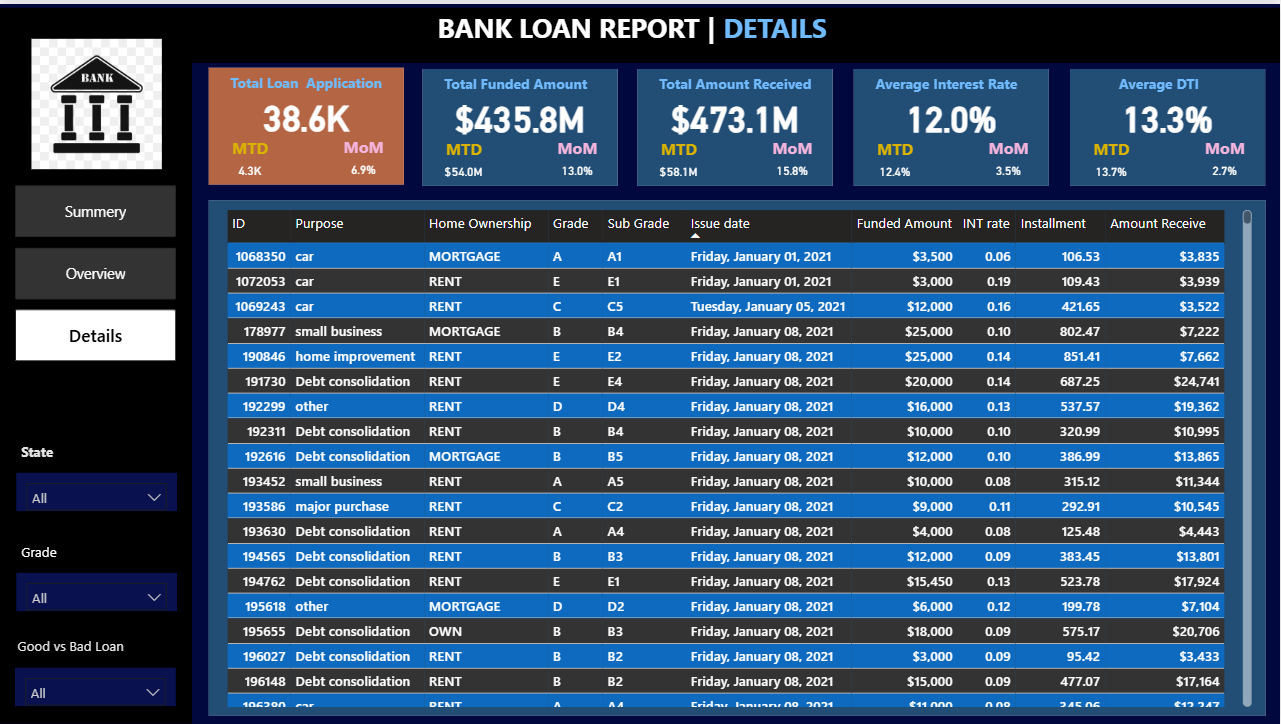

This screenshot's page, from the dashboard's own definition file:
{"tool":"powerbi","page":{"name":"Details","canvas":[1280,720],"ordinal":2},"visuals":[{"type":"shape","box":[208.2,63.1,195.1,117],"z":0,"group":"g1"},{"type":"shape","box":[422.8,64.4,195.1,117],"z":0,"group":"g2"},{"type":"shape","box":[637.6,64.4,195.1,117],"z":0,"group":"g3"},{"type":"shape","box":[853.5,64.4,195.1,117],"z":0,"group":"g4"},{"type":"shape","box":[1069.5,64.4,195.1,117],"z":0,"group":"g5"},{"type":"shape","box":[208.6,196.3,1056.4,515.3],"z":0},{"type":"textbox","box":[0,55.2,192,665],"z":1000},{"type":"card","fields":{"Values":["financial_loan.TOTAL LOAN APPLICATION"]},"box":[208.2,81.5,195.1,58.9],"z":1000,"group":"g1"},{"type":"card","fields":{"Values":["financial_loan.Total Funded Amount"]},"box":[422.8,82.8,195.1,58.9],"z":1000,"group":"g2"},{"type":"card","fields":{"Values":["financial_loan.Total Amount Receive"]},"box":[637.6,82.8,195.1,58.9],"z":1000,"group":"g3"},{"type":"card","fields":{"Values":["financial_loan.Average Interst Rate"]},"box":[853.5,82.8,195.1,58.9],"z":1000,"group":"g4"},{"type":"card","fields":{"Values":["financial_loan.Average DTI"]},"box":[1069.5,82.8,195.1,58.9],"z":1000,"group":"g5"},{"type":"textbox","box":[0,3.8,1280,55],"z":2000},{"type":"textbox","box":[209.4,63.1,195.1,35.6],"z":2000,"group":"g1"},{"type":"textbox","box":[424,64.4,195.1,35.6],"z":2000,"group":"g2"},{"type":"textbox","box":[638.8,64.4,195.1,35.6],"z":2000,"group":"g3"},{"type":"textbox","box":[854.7,64.4,195.1,35.6],"z":2000,"group":"g4"},{"type":"textbox","box":[1070.7,64.4,195.1,35.6],"z":2000,"group":"g5"},{"type":"textbox","box":[431.9,0,504.3,55.2],"z":3000},{"type":"card","title":"MTD ","fields":{"Values":["financial_loan.MTD Loan Application"]},"box":[208.8,131.3,82.9,48.6],"z":3000,"group":"g1"},{"type":"card","title":"MTD ","fields":{"Values":["financial_loan.MTD funded Amount"]},"box":[423.4,132.6,82.9,48.6],"z":3000,"group":"g2"},{"type":"card","title":"MTD ","fields":{"Values":["financial_loan.MTD Amount Recieve"]},"box":[638.2,132.6,82.9,48.6],"z":3000,"group":"g3"},{"type":"card","title":"MTD ","fields":{"Values":["financial_loan.MTD avg Interst Rate"]},"box":[854.1,132.6,82.9,48.6],"z":3000,"group":"g4"},{"type":"card","title":"MTD ","fields":{"Values":["financial_loan.MTD Average DTI"]},"box":[1070.1,132.6,82.9,48.6],"z":3000,"group":"g5"},{"type":"textbox","box":[16,434.1,90.8,35.6],"z":3000,"group":"g6"},{"type":"textbox","box":[16,533.5,90.8,35.6],"z":3000,"group":"g7"},{"type":"textbox","box":[12.3,627.2,136.2,35],"z":3000,"group":"g8"},{"type":"group","id":"g1","title":"Group 1","box":[208.2,63.1,196.7,116.7],"z":4000},{"type":"card","title":"MoM","fields":{"Values":["financial_loan.MoM Loan Application"]},"box":[322.3,131.2,82.2,48.9],"z":4000,"group":"g1"},{"type":"card","title":"MoM","fields":{"Values":["financial_loan.MoM Funded Amount"]},"box":[536.9,132.5,82.2,48.9],"z":4000,"group":"g2"},{"type":"card","title":"MoM","fields":{"Values":["financial_loan.MoM Amount Recieve"]},"box":[751.7,132.5,82.2,48.9],"z":4000,"group":"g3"},{"type":"card","title":"MoM","fields":{"Values":["financial_loan.MoM Avg Interst Rate"]},"box":[967.6,132.5,82.2,48.9],"z":4000,"group":"g4"},{"type":"card","title":"MoM","fields":{"Values":["financial_loan.MoM Avg DTI"]},"box":[1183.6,132.5,82.2,48.9],"z":4000,"group":"g5"},{"type":"group","id":"g2","title":"Group 1","box":[422.8,64.4,196.9,116.4],"z":5000},{"type":"group","id":"g3","title":"Group 1","box":[637.6,64.4,198.1,116.4],"z":6000},{"type":"group","id":"g4","title":"Group 1","box":[853.5,64.4,198.1,116.4],"z":7000},{"type":"group","id":"g5","title":"Group 1","box":[1069.5,64.4,198.1,116.4],"z":8000},{"type":"group","id":"g6","title":"Group 3","box":[16,434.1,160.7,73.6],"z":9000},{"type":"group","id":"g7","title":"Group 3","box":[16,533.5,160.7,73.6],"z":10000},{"type":"group","id":"g8","title":"Group 3","box":[12.3,627.2,162.9,74],"z":11000},{"type":"tableEx","fields":{"Values":["financial_loan.id","financial_loan.purpose","financial_loan.home_ownership","financial_loan.grade","financial_loan.sub_grade","financial_loan.issue_date","financial_loan.Total Funded Amount","Sum(financial_loan.int_rate)","Sum(financial_loan.installment)","financial_loan.Total Amount Receive"]},"box":[220.9,201.2,1035.6,506.8],"z":12000},{"type":"image","box":[16,29.4,160.7,139.9],"z":13000},{"type":"pageNavigator","box":[14.7,181.6,162,177.9],"z":14000},{"type":"slicer","fields":{"Values":["financial_loan.address_state"]},"box":[16,469.7,160.7,38],"z":20000,"group":"g6"},{"type":"slicer","fields":{"Values":["financial_loan.grade"]},"box":[16,569.1,160.7,38],"z":20000,"group":"g7"},{"type":"slicer","fields":{"Values":["financial_loan.loan_status (groups)"]},"box":[14.5,663.2,160.7,38],"z":20000,"group":"g8"}]}

Visuals, with their boxes in screenshot pixels (x1, y1, x2, y2), scaled from the page's 1280x720 canvas onto the 1281x724 screenshot:
shape: crop(208, 63, 404, 181)
shape: crop(423, 65, 618, 182)
shape: crop(638, 65, 833, 182)
shape: crop(854, 65, 1049, 182)
shape: crop(1070, 65, 1266, 182)
shape: crop(209, 197, 1266, 716)
textbox: crop(0, 56, 192, 723)
card - financial_loan.TOTAL LOAN APPLICATION: crop(208, 82, 404, 141)
card - financial_loan.Total Funded Amount: crop(423, 83, 618, 142)
card - financial_loan.Total Amount Receive: crop(638, 83, 833, 142)
card - financial_loan.Average Interst Rate: crop(854, 83, 1049, 142)
card - financial_loan.Average DTI: crop(1070, 83, 1266, 142)
textbox: crop(0, 4, 1280, 59)
textbox: crop(210, 63, 405, 99)
textbox: crop(424, 65, 620, 101)
textbox: crop(639, 65, 835, 101)
textbox: crop(855, 65, 1051, 101)
textbox: crop(1072, 65, 1267, 101)
textbox: crop(432, 0, 937, 56)
"MTD " card: crop(209, 132, 292, 181)
"MTD " card: crop(424, 133, 507, 182)
"MTD " card: crop(639, 133, 722, 182)
"MTD " card: crop(855, 133, 938, 182)
"MTD " card: crop(1071, 133, 1154, 182)
textbox: crop(16, 437, 107, 472)
textbox: crop(16, 536, 107, 572)
textbox: crop(12, 631, 149, 666)
"Group 1" group: crop(208, 63, 405, 181)
"MoM" card: crop(323, 132, 405, 181)
"MoM" card: crop(537, 133, 620, 182)
"MoM" card: crop(752, 133, 835, 182)
"MoM" card: crop(968, 133, 1051, 182)
"MoM" card: crop(1185, 133, 1267, 182)
"Group 1" group: crop(423, 65, 620, 182)
"Group 1" group: crop(638, 65, 836, 182)
"Group 1" group: crop(854, 65, 1052, 182)
"Group 1" group: crop(1070, 65, 1269, 182)
"Group 3" group: crop(16, 437, 177, 511)
"Group 3" group: crop(16, 536, 177, 610)
"Group 3" group: crop(12, 631, 175, 705)
tableEx - financial_loan.id x financial_loan.purpose: crop(221, 202, 1257, 712)
image: crop(16, 30, 177, 170)
pageNavigator: crop(15, 183, 177, 361)
slicer - financial_loan.address_state: crop(16, 472, 177, 511)
slicer - financial_loan.grade: crop(16, 572, 177, 610)
slicer - financial_loan.loan_status (groups): crop(15, 667, 175, 705)
